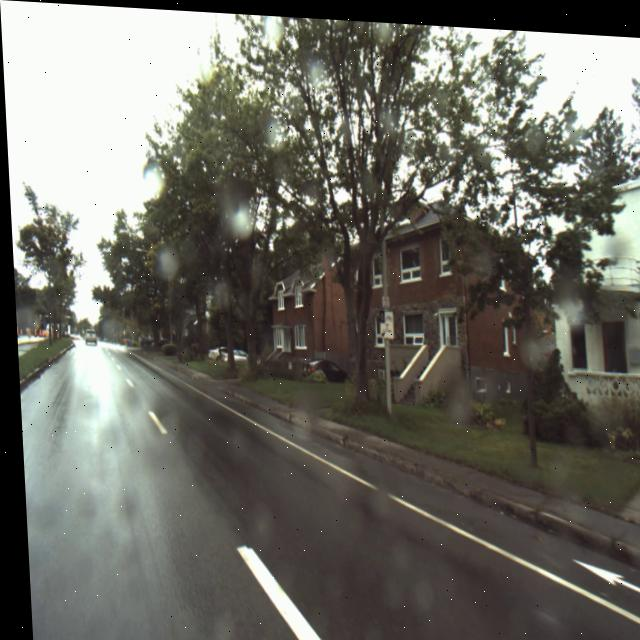car: (295, 353, 346, 381), (217, 347, 244, 361), (80, 327, 95, 345), (203, 343, 220, 357)
